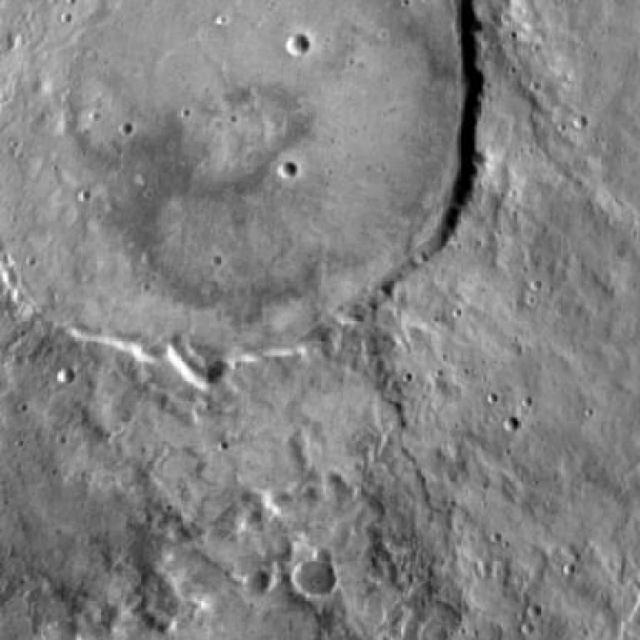crater: (0, 0, 480, 362), (299, 556, 341, 596), (284, 34, 308, 58), (277, 158, 297, 178), (502, 414, 518, 432), (58, 368, 74, 383)
